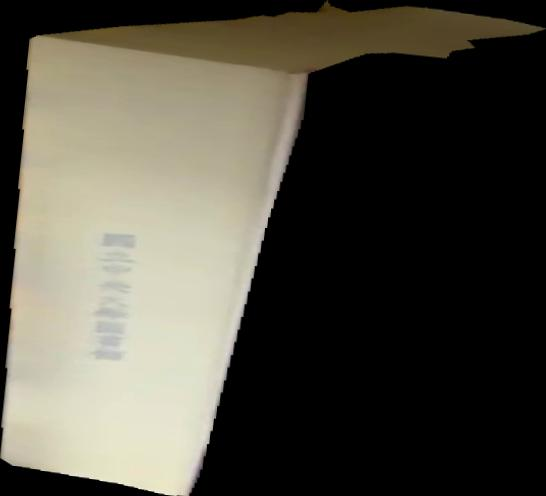backward: (1, 1, 546, 496)
